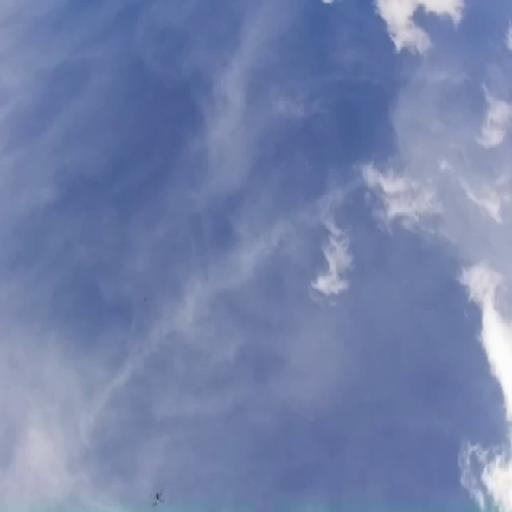drones: (148, 483, 167, 512)
